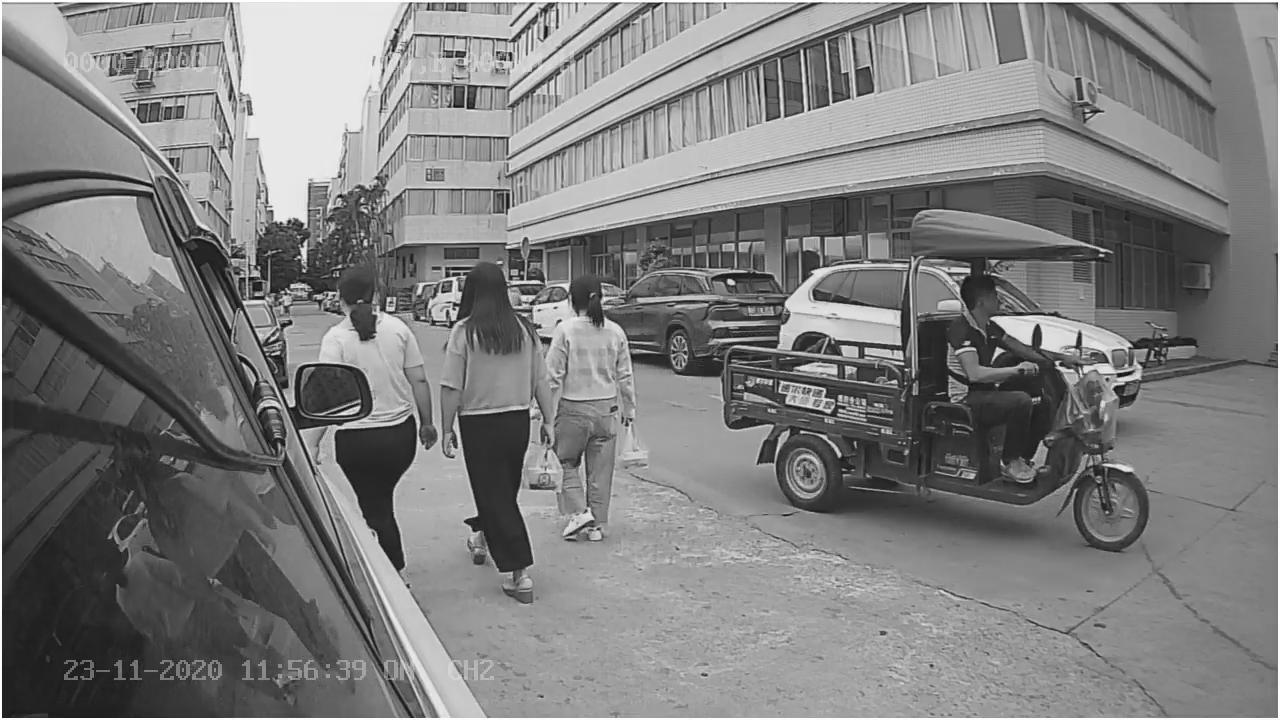person: (436, 254, 554, 609), (544, 275, 657, 549), (944, 268, 1039, 384)
